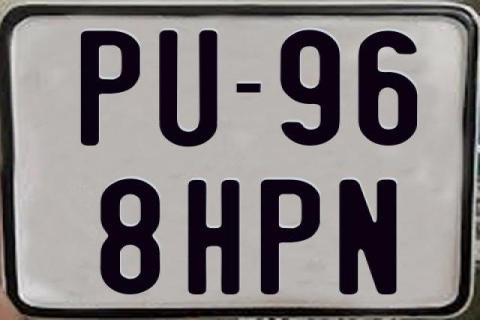0: (99, 178, 161, 296), (356, 29, 416, 147), (277, 28, 338, 144)
H: (188, 179, 240, 295)
N: (338, 177, 398, 293)
P: (81, 28, 144, 148), (261, 179, 322, 295)
U: (156, 29, 218, 148)
